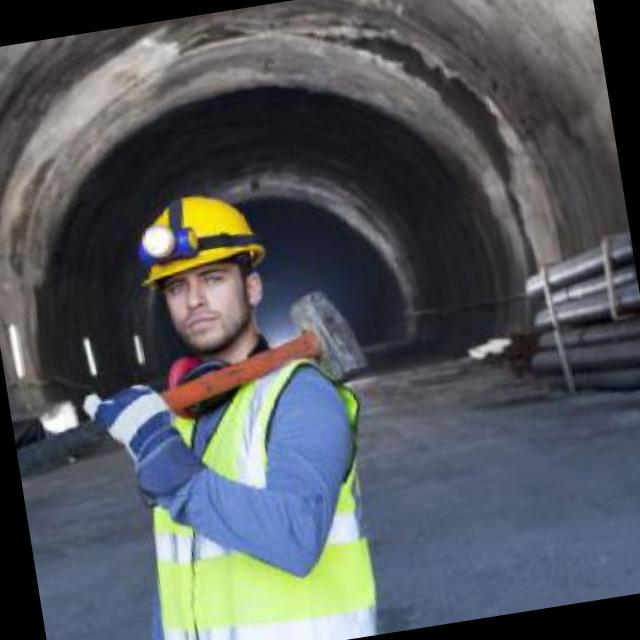helmet: (124, 172, 289, 372)
